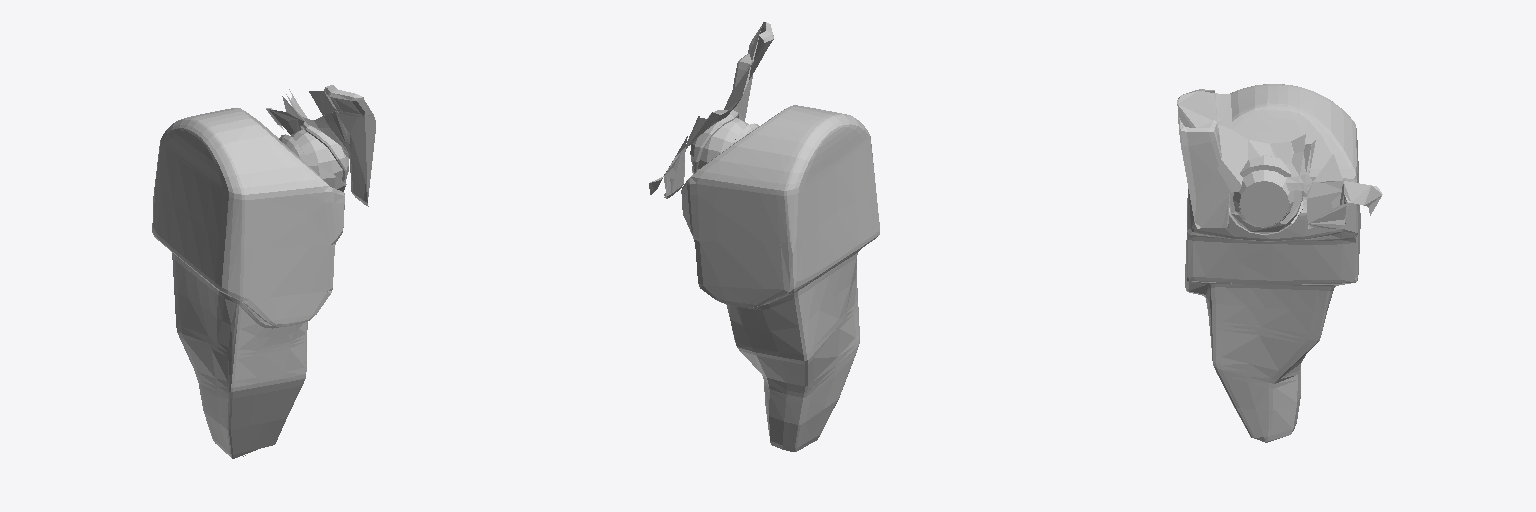
The model's file is Muslo_Izquierdo.obj.
3 renders of one model, left to right at view 1: azimuth 30°, elevation 25°; view 2: azimuth 150°, elevation 25°; view 3: azimuth 270°, elevation 25°, orthographic.
Visible parts, largest first — view 1: rig_test.001; view 2: rig_test.001; view 3: rig_test.001.
Part boxes in pixels (x1,y1,x2,y2): rig_test.001: (152, 85, 375, 458); rig_test.001: (649, 22, 879, 451); rig_test.001: (1177, 84, 1382, 442).
Size of the model in its own units: 22.84 by 55.2 by 27.68.